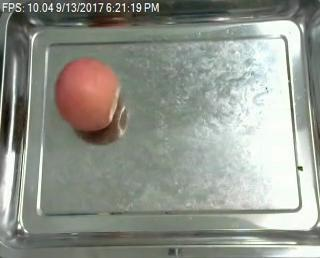apple: (54, 56, 121, 131)
